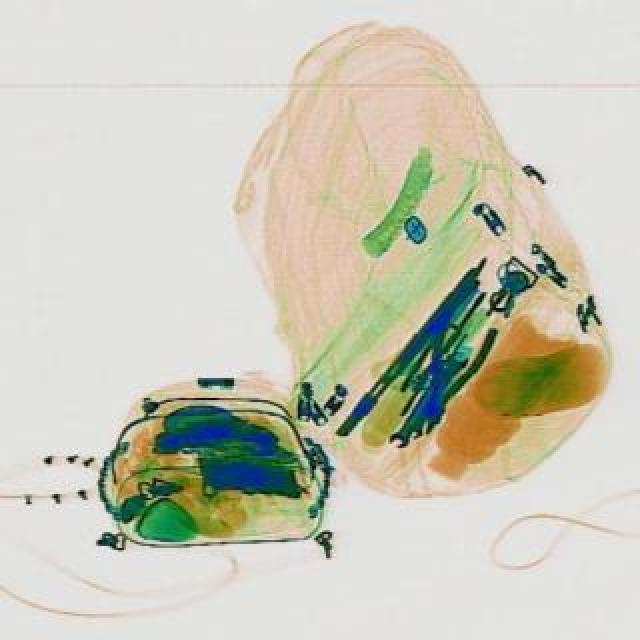scissors: (382, 344, 470, 452)
wrench: (396, 308, 498, 440)
